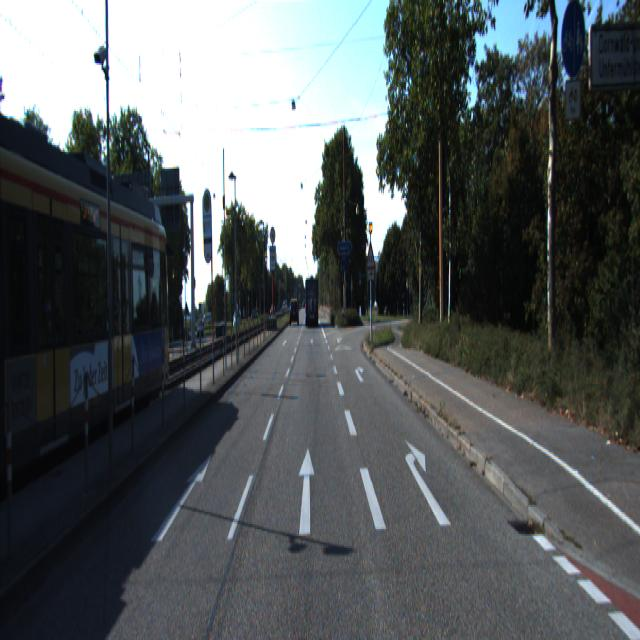Car: (290, 299, 299, 325)
DontCare: (250, 304, 258, 320), (233, 310, 240, 328), (196, 314, 202, 332), (269, 304, 275, 320)
Tram: (0, 124, 180, 504)
Truck: (305, 275, 319, 326)
